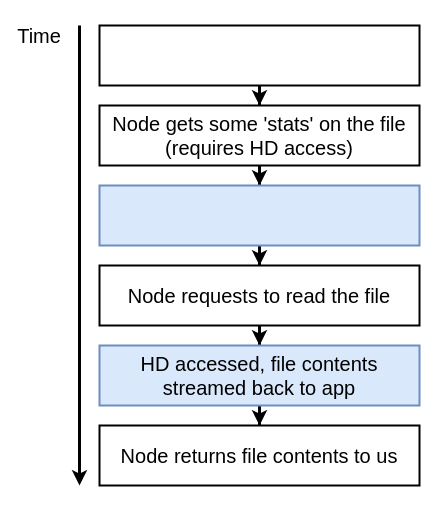
Some shapes in this 437 by 512 pixel diagram are drawn without their labels. Here are the shapes that lost their labels. From the top down, the centre of each, then its label:
At (x=259, y=55): "We call fs.readFile".
At (x=259, y=215): "HD accessed, stats returned".
